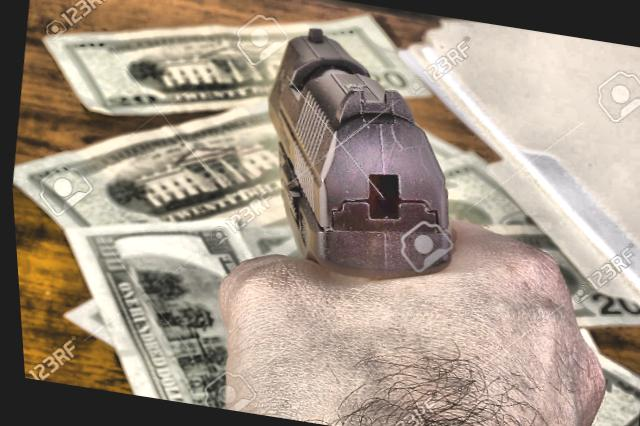pistol: (234, 14, 486, 298)
